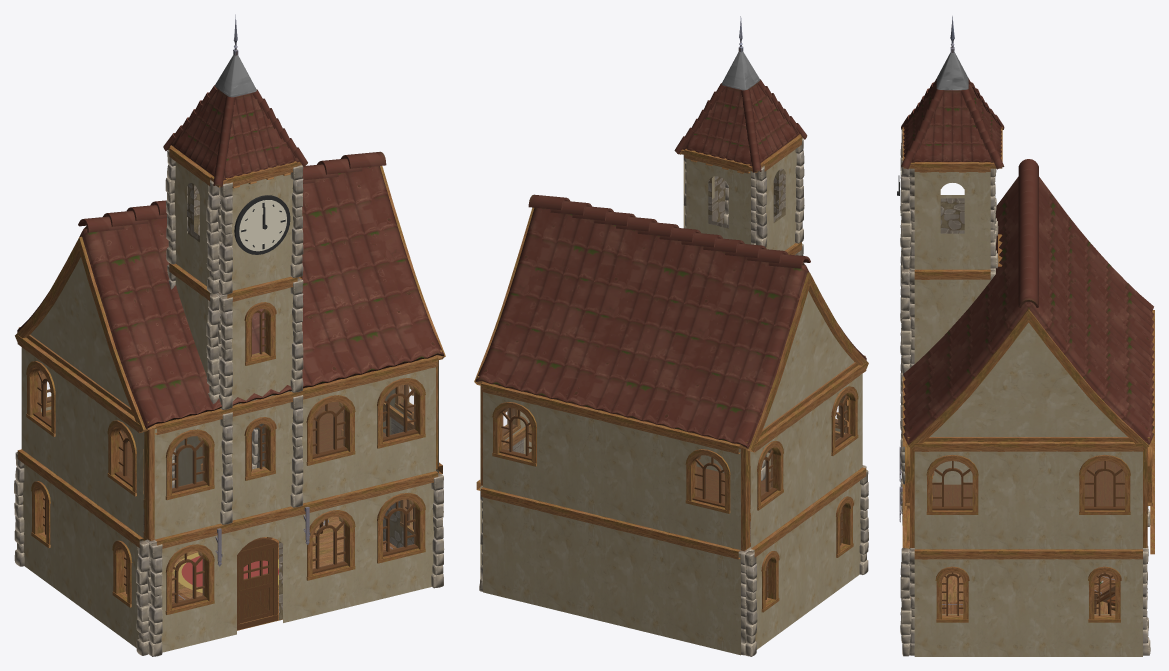
Rendered from TownHall.glb.
3 renders of one model, left to right at view 1: azimuth 30°, elevation 25°; view 2: azimuth 150°, elevation 25°; view 3: azimuth 270°, elevation 25°, orthographic. The views are drawn at different scales.
Visible parts, largest first — view 1: Roof_RoundTiles_6x8.003, Roof_Tower_RoundTiles.001, Roof_Front_Brick6.007, Wall_Plaster_Window_Wide_Round.013, Wall_UnevenBrick_Window_Thin_Round.010, Wall_UnevenBrick_Window_Wide_Round.020, Wall_UnevenBrick_Window_Thin_Round.011, Wall_UnevenBrick_Window_Wide_Round.021, Wall_Plaster_Window_Wide_Round.011, Wall_Plaster_Straight.014, Wall_UnevenBrick_Straight.024, Wall_Plaster_Window_Wide_Round.012 (+39 smaller); view 2: Roof_RoundTiles_6x8.003, Roof_Tower_RoundTiles.001, Wall_UnevenBrick_Straight.020, Wall_UnevenBrick_Straight.021, Wall_UnevenBrick_Straight.023, Wall_UnevenBrick_Straight.022, Wall_Plaster_Straight.012, Wall_Plaster_Straight.013, Roof_Front_Brick6.007, Wall_Plaster_Window_Wide_Round.014, Wall_Plaster_Window_Wide_Round.015, Wall_UnevenBrick_Window_Thin_Round.012 (+20 smaller); view 3: Roof_RoundTiles_6x8.003, Roof_Front_Brick6.008, Wall_Plaster_Straight.015, Wall_UnevenBrick_Straight.025, Roof_Tower_RoundTiles.001, Wall_UnevenBrick_Window_Thin_Round.014, Wall_UnevenBrick_Window_Thin_Round.008, Wall_UnevenBrick_Window_Thin_Round.009, Wall_Plaster_Window_Wide_Round.018, Wall_Plaster_Window_Wide_Round.019, Wall_UnevenBrick_Straight.031, Window_Wide_Round1.036 (+16 smaller).
Part boxes in pixels (<box>): Roof_RoundTiles_6x8.003: <box>15,151,445,432</box>; Roof_Tower_RoundTiles.001: <box>163,14,307,188</box>; Roof_Front_Brick6.007: <box>18,257,156,429</box>; Wall_Plaster_Window_Wide_Round.013: <box>365,356,438,487</box>; Wall_UnevenBrick_Window_Thin_Round.010: <box>227,391,297,520</box>; Wall_UnevenBrick_Window_Wide_Round.020: <box>295,488,367,619</box>; Wall_UnevenBrick_Window_Thin_Round.011: <box>227,276,297,404</box>; Wall_UnevenBrick_Window_Wide_Round.021: <box>365,471,438,602</box>; Wall_Plaster_Window_Wide_Round.011: <box>154,408,227,539</box>; Wall_Plaster_Straight.014: <box>58,364,102,508</box>; Wall_UnevenBrick_Straight.024: <box>58,479,102,623</box>; Wall_Plaster_Window_Wide_Round.012: <box>297,373,367,503</box>; Roof_RoundTiles_6x8.003: <box>474,194,868,451</box>; Roof_Tower_RoundTiles.001: <box>674,16,807,173</box>; Wall_UnevenBrick_Straight.020: <box>674,534,744,655</box>; Wall_UnevenBrick_Straight.021: <box>609,518,676,639</box>; Wall_UnevenBrick_Straight.023: <box>481,487,547,607</box>; Wall_UnevenBrick_Straight.022: <box>545,503,611,623</box>; Wall_Plaster_Straight.012: <box>609,413,676,533</box>; Wall_Plaster_Straight.013: <box>545,397,611,518</box>; Roof_Front_Brick6.007: <box>739,291,865,449</box>; Wall_Plaster_Window_Wide_Round.014: <box>674,429,740,549</box>; Wall_Plaster_Window_Wide_Round.015: <box>481,382,547,502</box>; Wall_UnevenBrick_Window_Thin_Round.012: <box>684,148,750,244</box>; Roof_RoundTiles_6x8.003: <box>903,159,1154,450</box>; Roof_Front_Brick6.008: <box>907,322,1149,444</box>; Wall_Plaster_Straight.015: <box>990,441,1066,549</box>; Wall_UnevenBrick_Straight.025: <box>990,549,1066,656</box>; Roof_Tower_RoundTiles.001: <box>901,16,1004,172</box>; Wall_UnevenBrick_Window_Thin_Round.014: <box>914,162,990,269</box>; Wall_UnevenBrick_Window_Thin_Round.008: <box>914,549,990,656</box>; Wall_UnevenBrick_Window_Thin_Round.009: <box>1067,549,1142,656</box>; Wall_Plaster_Window_Wide_Round.018: <box>914,441,990,549</box>; Wall_Plaster_Window_Wide_Round.019: <box>1067,441,1142,549</box>; Wall_UnevenBrick_Straight.031: <box>914,269,990,363</box>; Window_Wide_Round1.036: <box>926,454,978,514</box>.
Size of the model in its own units: 8.67 by 16.23 by 6.77.
62 materials, 55 textured.
